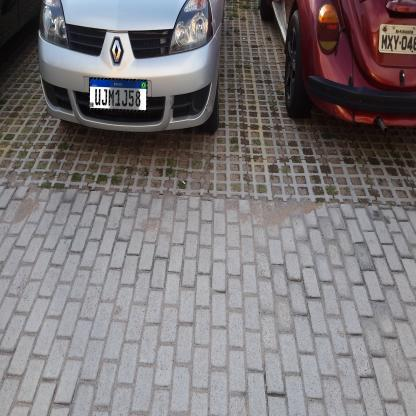PlacaM: (88, 77, 148, 112)
